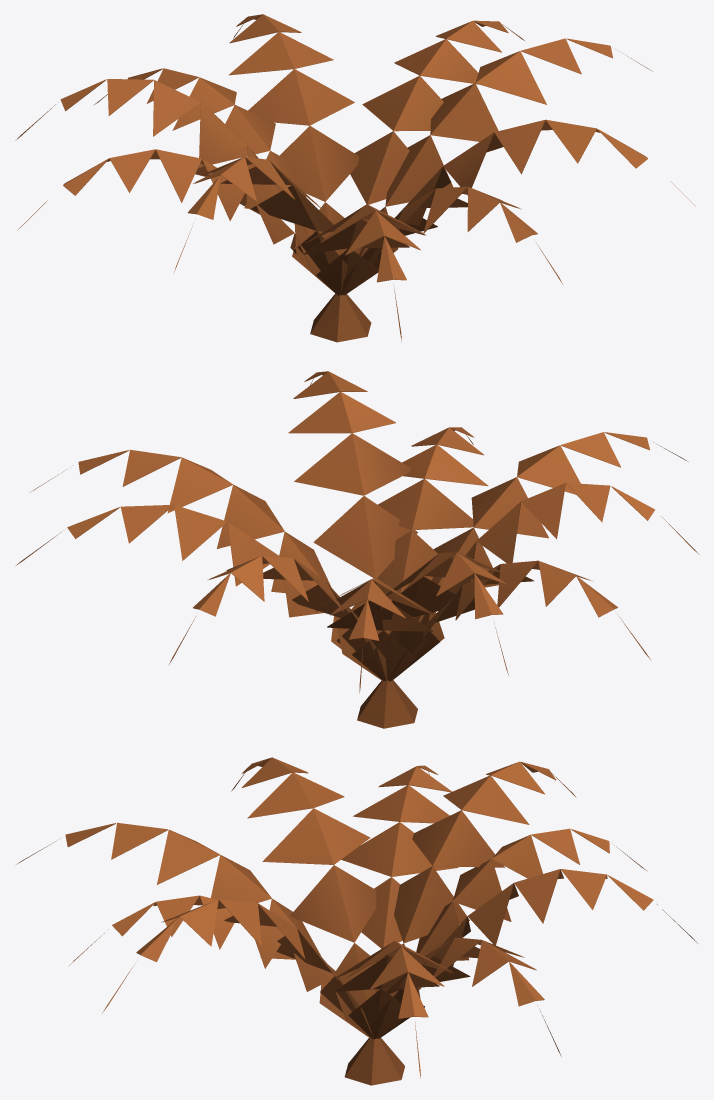
File: fern_wide.glb
The picture shows the model from 3 angles, top to bottom: view 1: azimuth 30°, elevation 25°; view 2: azimuth 150°, elevation 25°; view 3: azimuth 270°, elevation 25°; orthographic projection.
Bounding box in the file's own units: 1.75 × 0.6258 × 1.66.
